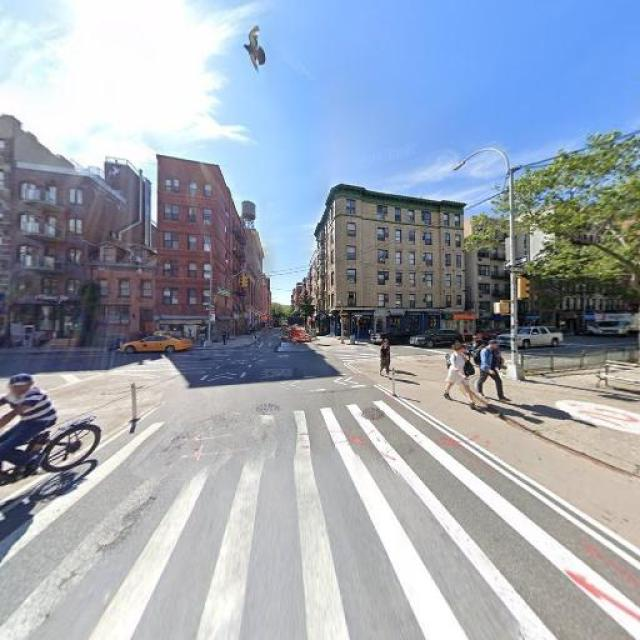Building: (99, 157, 269, 348), (319, 190, 464, 342)
